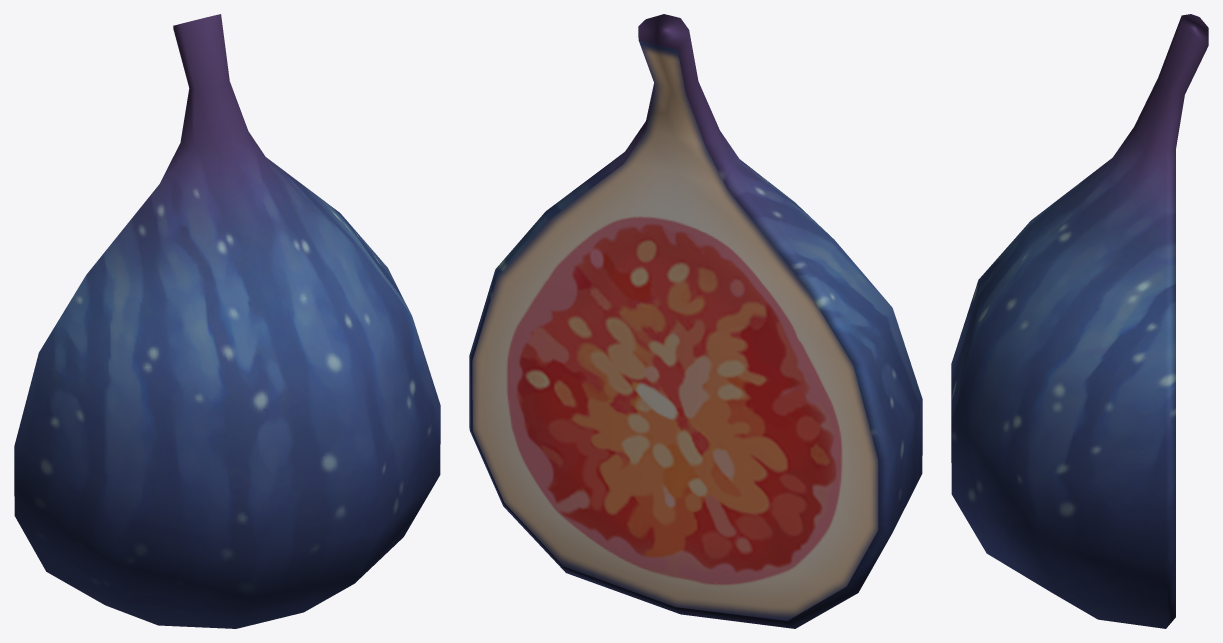
The model's file is Fig_Blue_Half.fbx.
3 views of the same model, side by side, from view 1: azimuth 30°, elevation 25°; view 2: azimuth 150°, elevation 25°; view 3: azimuth 270°, elevation 25° (orthographic). The views are drawn at different scales.
Parts seen in each view (by area): view 1: Fig_Blue_Half; view 2: Fig_Blue_Half; view 3: Fig_Blue_Half.
Part boxes in pixels (left/top/right/bottom): Fig_Blue_Half: left=14, top=14, right=440, bottom=628; Fig_Blue_Half: left=469, top=14, right=922, bottom=628; Fig_Blue_Half: left=951, top=14, right=1208, bottom=628.
Bounding box in the file's own units: 23.83 × 32.5 × 13.31.
Materials: 1 (1 with a texture image).
